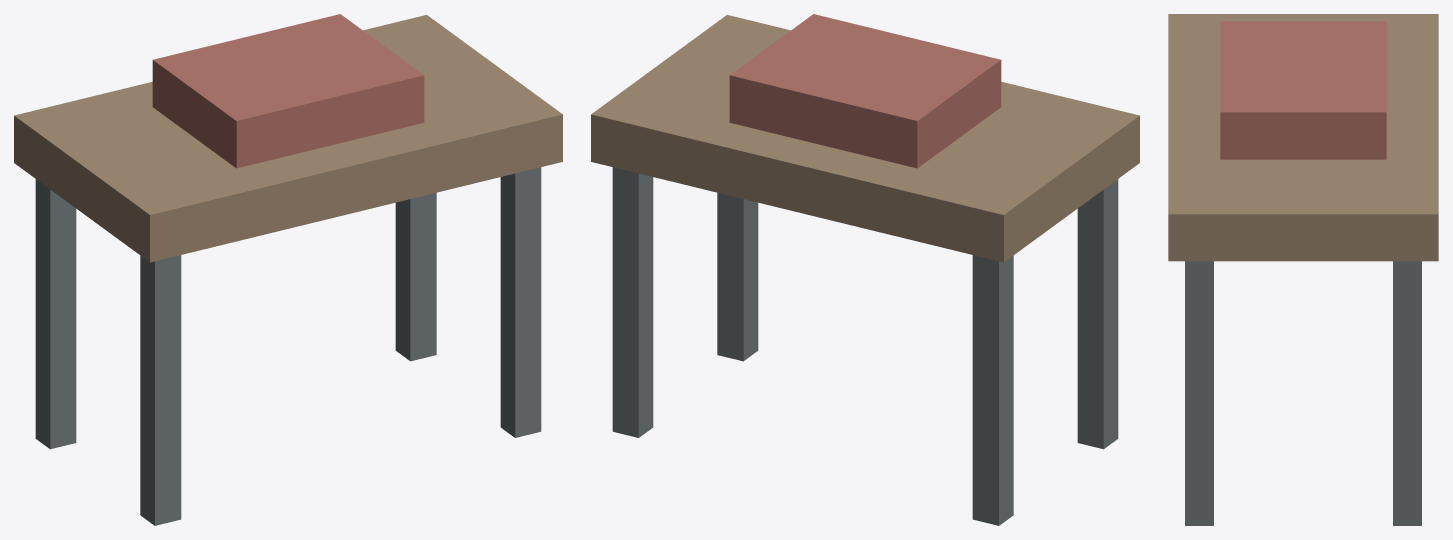
The model's file is iz2_water_pipe_manifold.glb.
3 views of the same model, side by side, from view 1: azimuth 30°, elevation 25°; view 2: azimuth 150°, elevation 25°; view 3: azimuth 270°, elevation 25° (orthographic).
Parts seen in each view (by area): view 1: body; view 2: body; view 3: body.
Boxes of the visible parts, left/top/right/bottom form: body: left=14, top=14, right=562, bottom=525; body: left=591, top=14, right=1139, bottom=525; body: left=1168, top=14, right=1438, bottom=525.
Bounding box in the file's own units: 1.1 × 0.937 × 0.6289.
